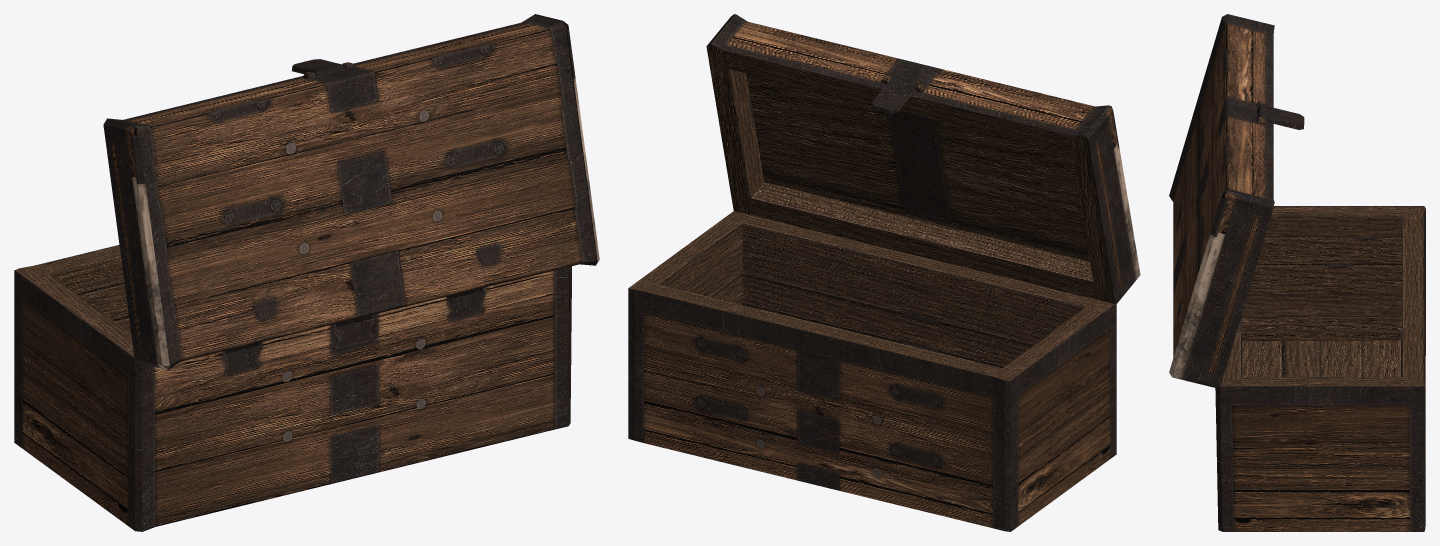
Rendered from Skyrim_Chest_open.obj.
3 views of the same model, side by side, from view 1: azimuth 30°, elevation 25°; view 2: azimuth 150°, elevation 25°; view 3: azimuth 270°, elevation 25° (orthographic). The views are drawn at different scales.
Parts seen in each view (by area): view 1: chest_open; view 2: chest_open; view 3: chest_open.
Boxes of the visible parts, x1,y1,x2,y2 form: chest_open: (14,14,599,531); chest_open: (628,14,1140,531); chest_open: (1169,14,1425,531).
Bounding box in the file's own units: 1.44 × 1.26 × 0.8665.
